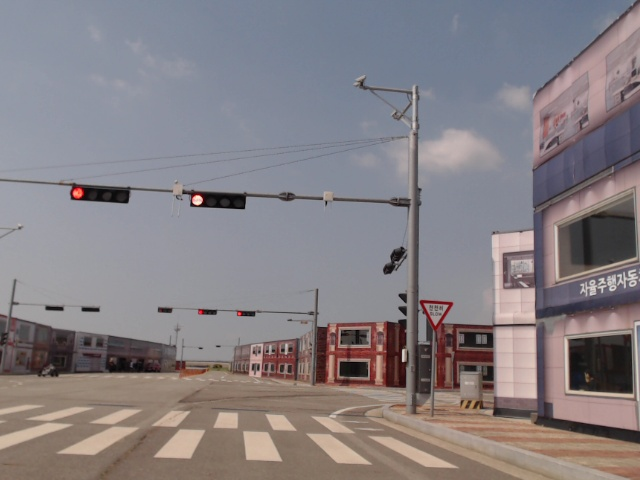red_4: (69, 184, 131, 204), (189, 189, 246, 210), (236, 311, 256, 318), (197, 309, 217, 316)
